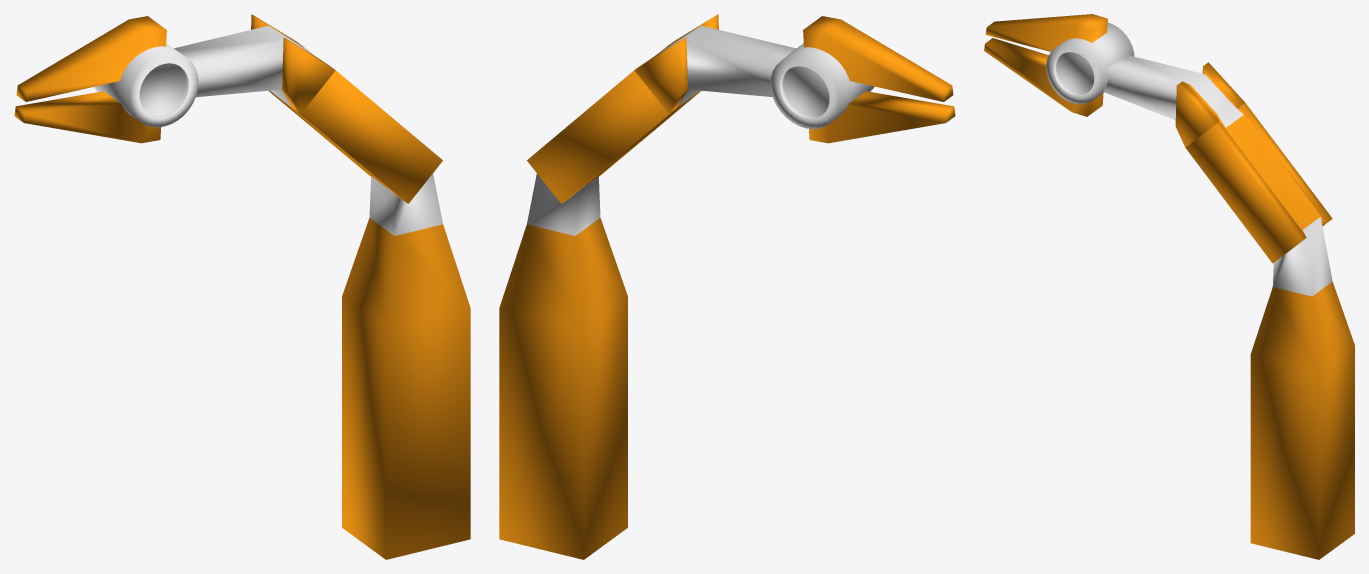
File: Arm.fbx
3 renders of one model, left to right at view 1: azimuth 30°, elevation 25°; view 2: azimuth 150°, elevation 25°; view 3: azimuth 330°, elevation 25°, orthographic. The views are drawn at different scales.
Visible parts, largest first — view 1: Arm1; view 2: Arm1; view 3: Arm1.
Part boxes in pixels (x1,y1,x2,y2): Arm1: (14,14,470,559); Arm1: (499,14,955,559); Arm1: (984,14,1354,559).
Size of the model in its own units: 1110 by 1414 by 197.
